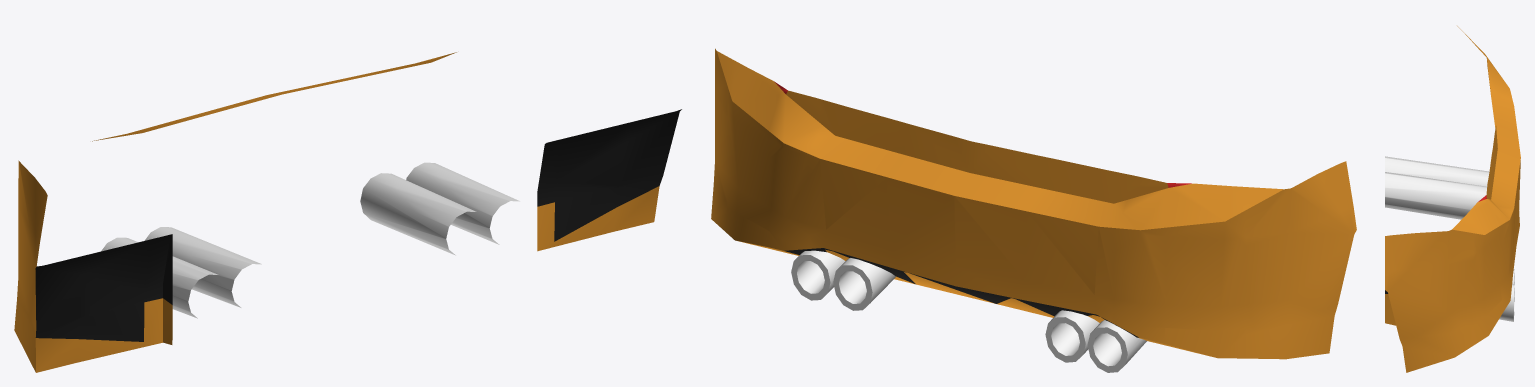
File: protoHatch_rearBumper_hayate.glb
The picture shows the model from 3 angles, left to right: view 1: azimuth 30°, elevation 25°; view 2: azimuth 150°, elevation 25°; view 3: azimuth 270°, elevation 25°; orthographic projection. The views are drawn at different scales.
Visible parts, largest first — view 1: rearBumper_hayate; view 2: rearBumper_hayate; view 3: rearBumper_hayate.
Boxes of the visible parts, x1,y1,x2,y2 form: rearBumper_hayate: (14, 52, 681, 372); rearBumper_hayate: (711, 48, 1356, 372); rearBumper_hayate: (1385, 26, 1520, 372).
Bounding box in the file's own units: 1.64 × 0.4682 × 0.4086.
